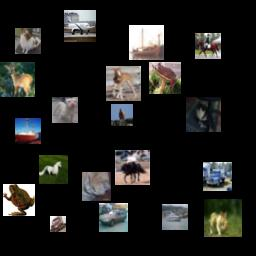airplane: (64, 10, 96, 42)
automobile: (99, 203, 128, 232)
bird: (111, 104, 133, 126)
cat: (204, 199, 242, 237), (186, 97, 221, 132), (82, 172, 111, 201)
deer: (0, 62, 35, 97)
dog: (52, 97, 78, 123), (15, 28, 41, 54)
frog: (149, 62, 181, 94), (3, 184, 35, 216)
ship: (129, 25, 164, 60), (162, 204, 188, 230), (15, 118, 41, 144)
truck: (203, 162, 232, 191), (50, 216, 66, 232)
